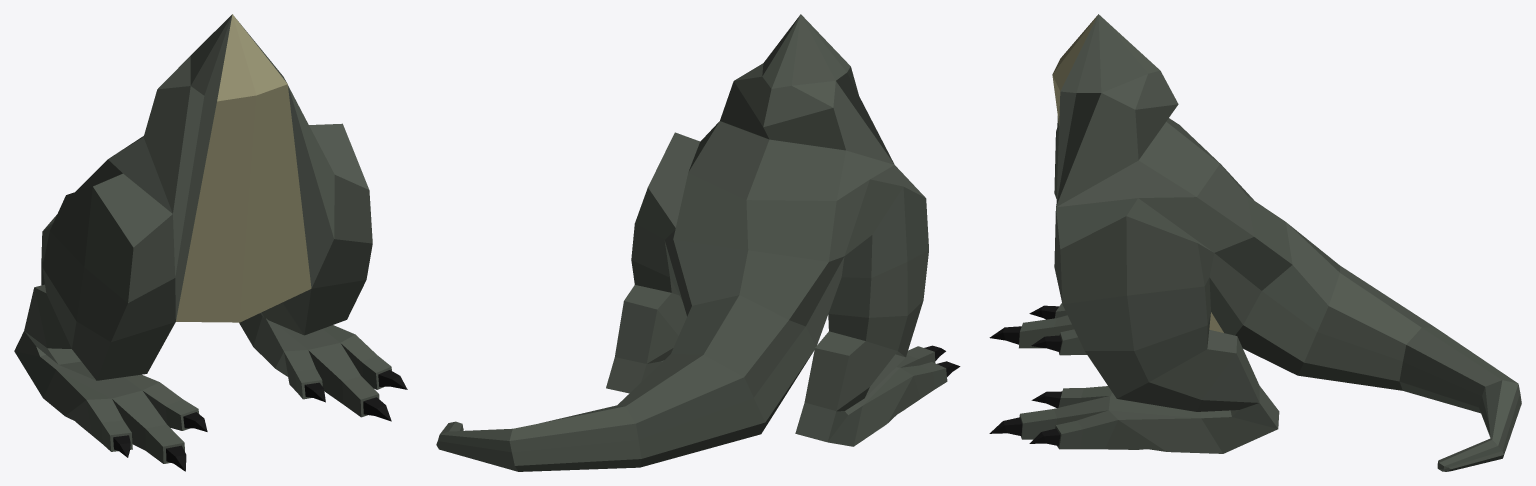
Rendered from hydra_body.glb.
3 renders of one model, left to right at view 1: azimuth 30°, elevation 25°; view 2: azimuth 150°, elevation 25°; view 3: azimuth 270°, elevation 25°, orthographic. The views are drawn at different scales.
Parts seen in each view (by area): view 1: Trex; view 2: Trex; view 3: Trex.
Boxes of the visible parts, box(x1,y1,x2,y2) form: Trex: box(14, 14, 407, 471); Trex: box(436, 14, 960, 471); Trex: box(989, 14, 1521, 471).
Size of the model in its own units: 3.58 by 3.92 by 4.93.
